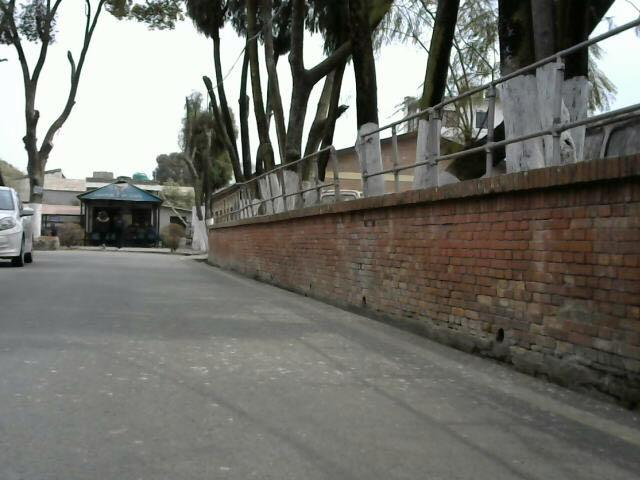Building: (86, 174, 205, 256)
Road: (0, 250, 640, 480)
Tree: (182, 1, 442, 149), (0, 1, 105, 262)
